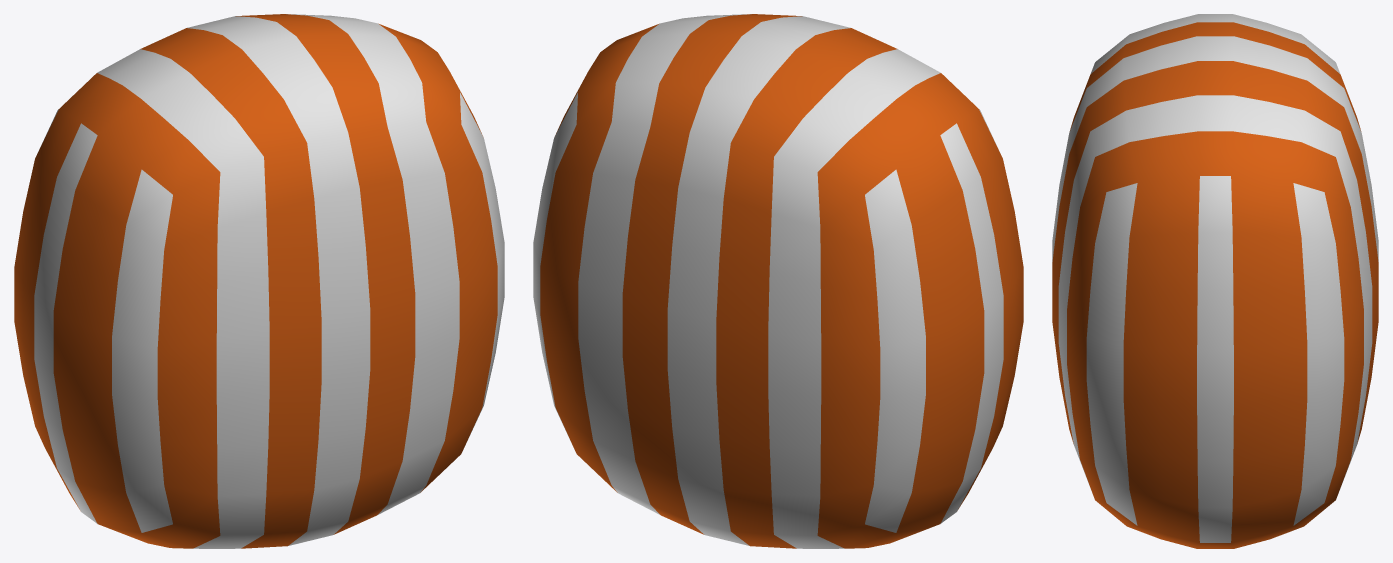
File: base_bonbon_orange.dae
3 views of the same model, side by side, from view 1: azimuth 30°, elevation 25°; view 2: azimuth 150°, elevation 25°; view 3: azimuth 270°, elevation 25° (orthographic). The views are drawn at different scales.
Parts seen in each view (by area): view 1: Cube; view 2: Cube; view 3: Cube.
Part boxes in pixels (left/top/right/bottom): Cube: left=14, top=14, right=504, bottom=548; Cube: left=533, top=14, right=1023, bottom=548; Cube: left=1052, top=14, right=1378, bottom=548.
Bounding box in the file's own units: 2.25 × 1.56 × 2.46.
